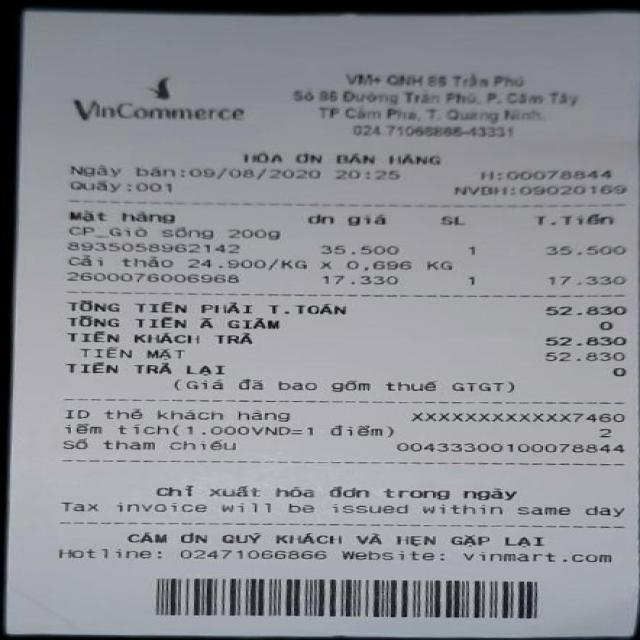Date: (185, 165, 330, 183)
Store_Name: (57, 76, 256, 132)
Total_Amount: (49, 293, 634, 320)
